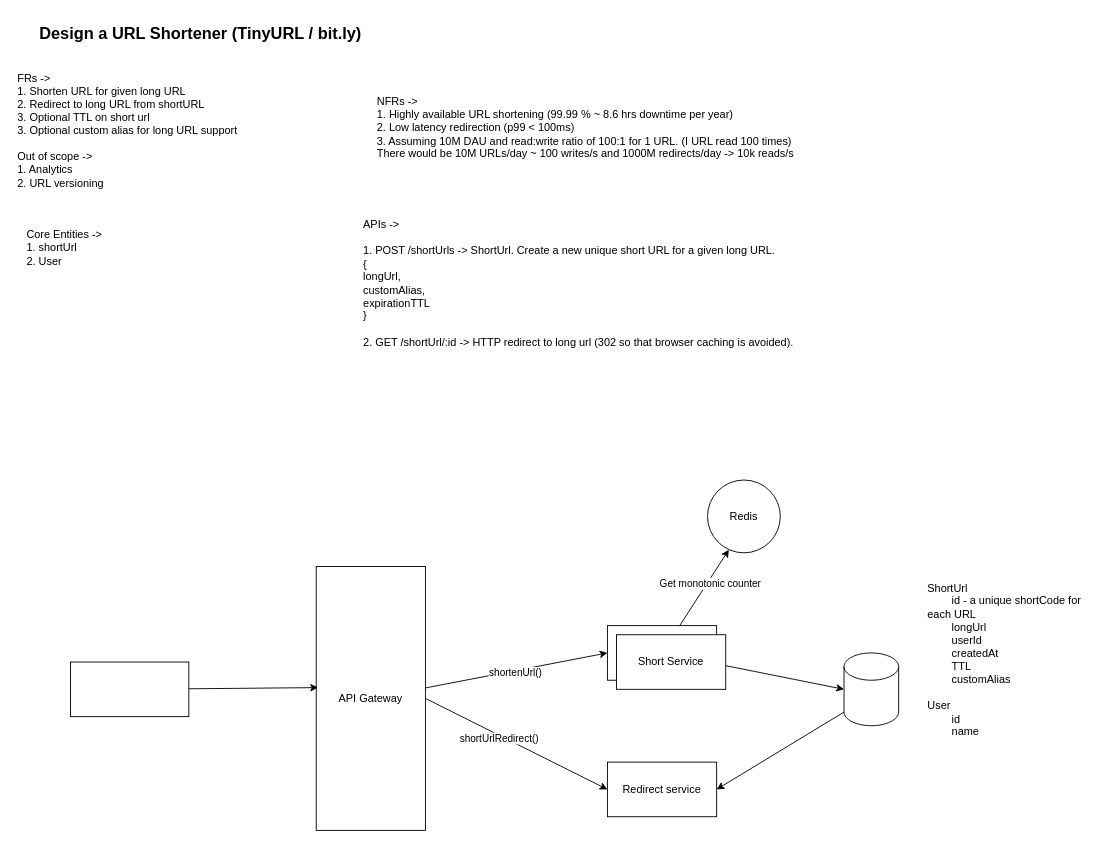
Some shapes in this 1114 by 846 pixel diagram are drawn without their labels. The centre of each missing label's shape, as x and y in pixels:
Client: (129,689)
SQL DB: (871,689)
